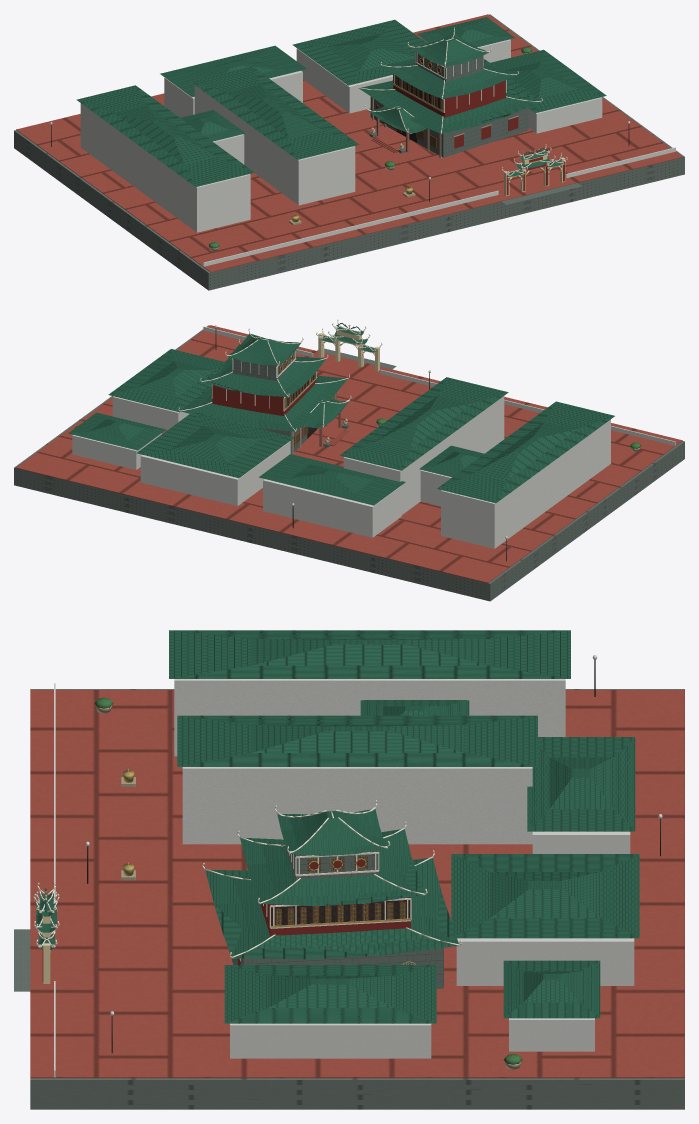
Rendered from ba-chua-xu-mid.glb.
3 renders of one model, top to bottom at view 1: azimuth 30°, elevation 25°; view 2: azimuth 150°, elevation 25°; view 3: azimuth 270°, elevation 25°, orthographic. The views are drawn at different scales.
Visible parts, largest first — view 1: ba-chua-xu-mid; view 2: ba-chua-xu-mid; view 3: ba-chua-xu-mid.
Boxes of the visible parts, x1,y1,x2,y2 form: ba-chua-xu-mid: [14, 14, 684, 290]; ba-chua-xu-mid: [14, 319, 684, 601]; ba-chua-xu-mid: [14, 630, 684, 1109].
Size of the model in its own units: 113 by 23.81 by 82.
1 material, 1 textured.
